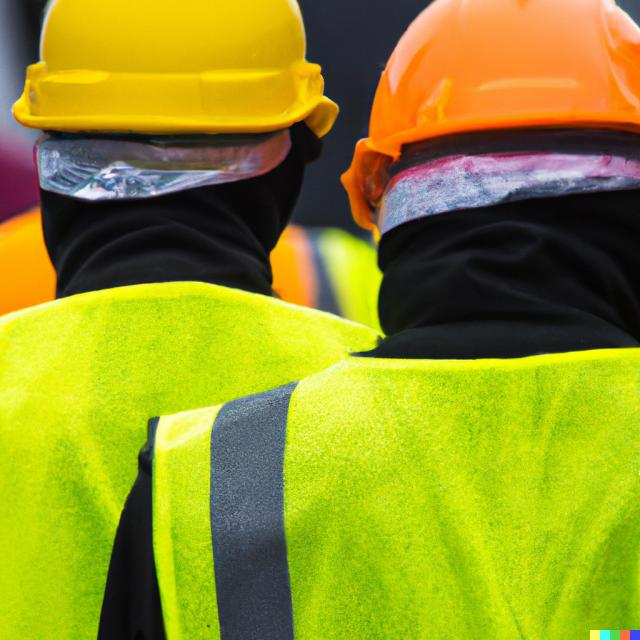Reflective-Jacket: (121, 234, 640, 640)
Safety-Helmet: (11, 3, 336, 138), (365, 4, 640, 160)
